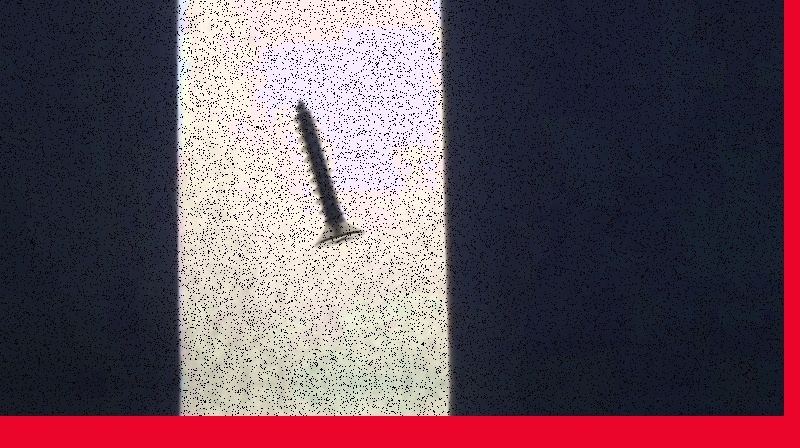S001: (289, 92, 371, 252)
